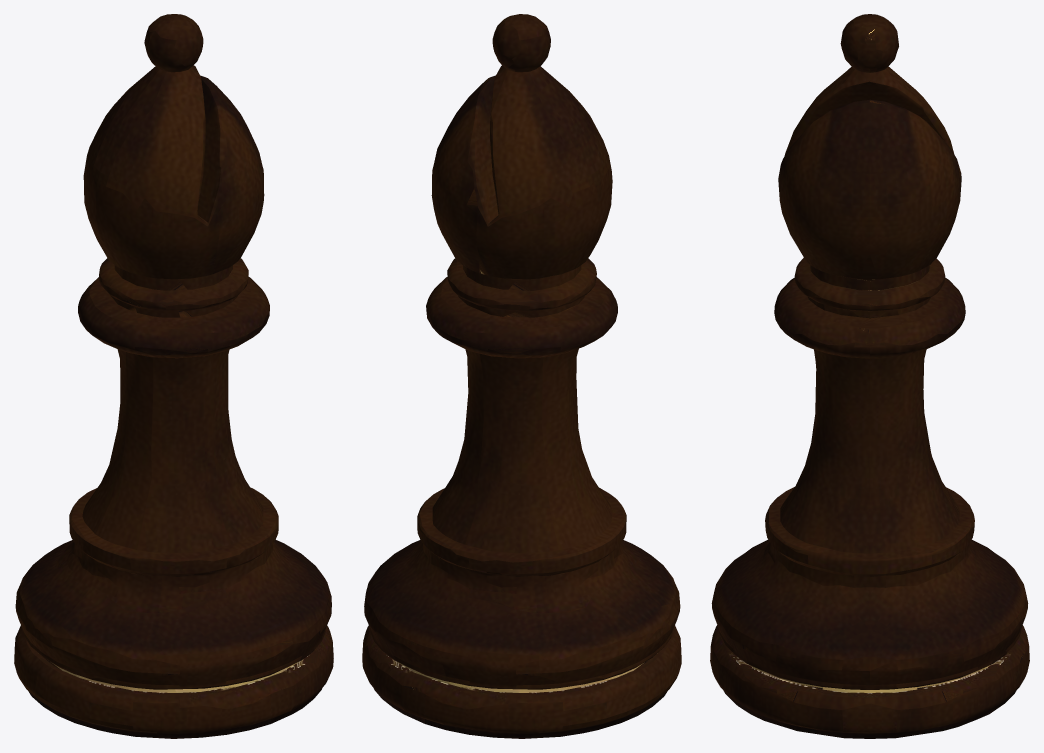
Rendered from 06_bishop_dark_v2.glb.
3 renders of one model, left to right at view 1: azimuth 30°, elevation 25°; view 2: azimuth 150°, elevation 25°; view 3: azimuth 270°, elevation 25°, orthographic.
Visible parts, largest first — view 1: world; view 2: world; view 3: world.
Boxes of the visible parts, bbox=[...] form: world: bbox=[14, 14, 333, 738]; world: bbox=[362, 14, 681, 738]; world: bbox=[710, 14, 1029, 738].
Size of the model in its own units: 0.441 by 1 by 0.441.
Materials: 1 (1 with a texture image).
